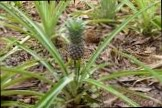Pineapple: (65, 21, 85, 59)
